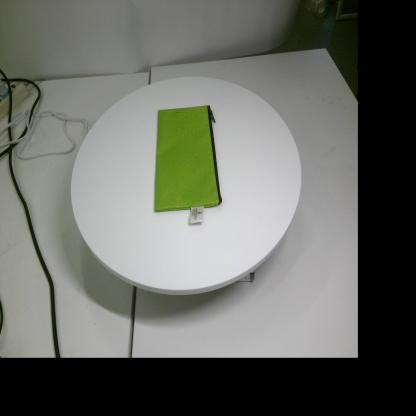Stationery: (154, 105, 223, 224)
